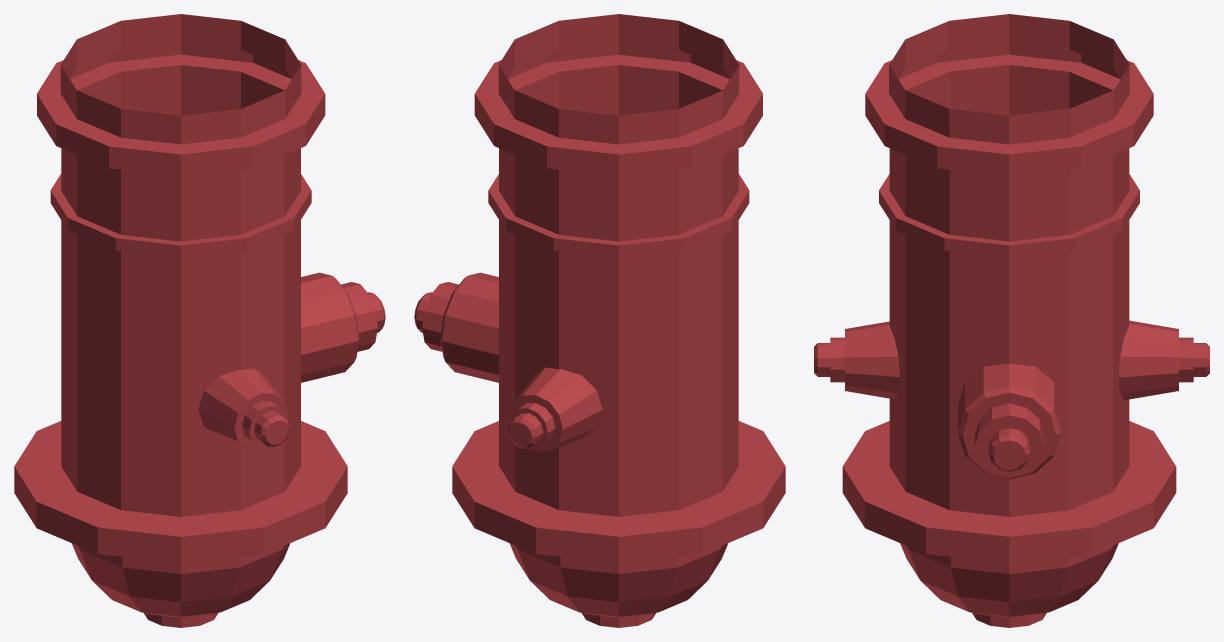
The model's file is fireHydrant.glb.
3 views of the same model, side by side, from view 1: azimuth 30°, elevation 25°; view 2: azimuth 150°, elevation 25°; view 3: azimuth 270°, elevation 25° (orthographic).
Visible parts, largest first — view 1: Circle-col.003, Circle-col, Circle-col.001; view 2: Circle-col.003, Circle-col, Circle-col.002; view 3: Circle-col.003, Circle-col, Circle-col.002, Circle-col.001.
Boxes of the visible parts, box(x1,y1,x2,y2) form: Circle-col.003: box(14, 14, 347, 627); Circle-col: box(301, 272, 385, 382); Circle-col.001: box(198, 368, 289, 449); Circle-col.003: box(452, 14, 785, 627); Circle-col: box(414, 272, 498, 382); Circle-col.002: box(507, 367, 602, 451); Circle-col.003: box(842, 14, 1176, 627); Circle-col: box(958, 363, 1060, 479); Circle-col.002: box(1118, 320, 1209, 400); Circle-col.001: box(814, 321, 899, 399).
Size of the model in its own units: 3.27 by 5.1 by 3.29.
